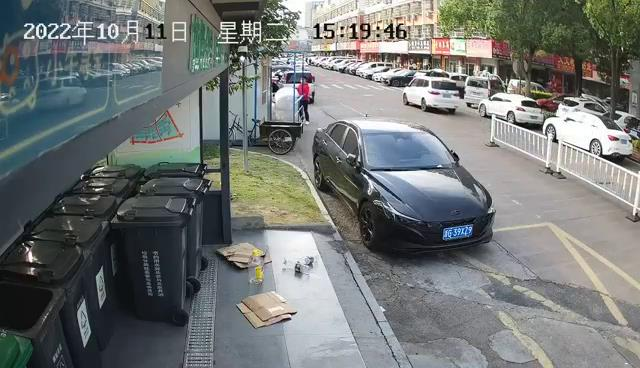suliaozhipin: (280, 252, 321, 277), (247, 247, 266, 285)
zhizhipin: (234, 289, 298, 330), (215, 241, 272, 270)
